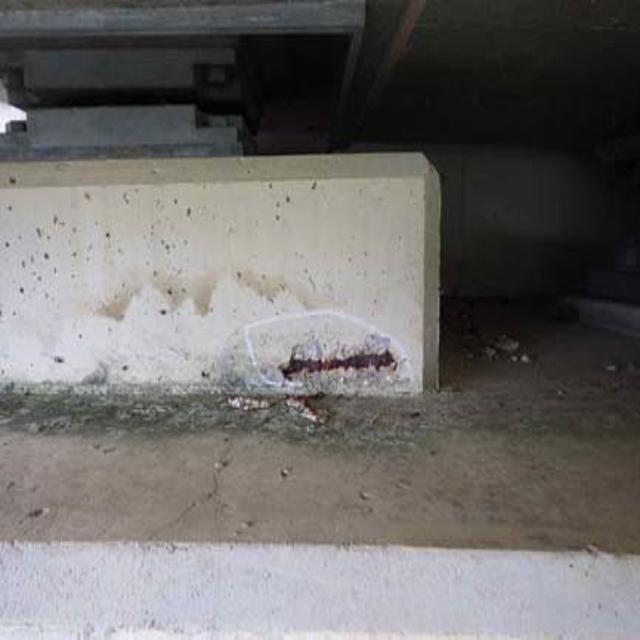spalling: (266, 322, 403, 398)
